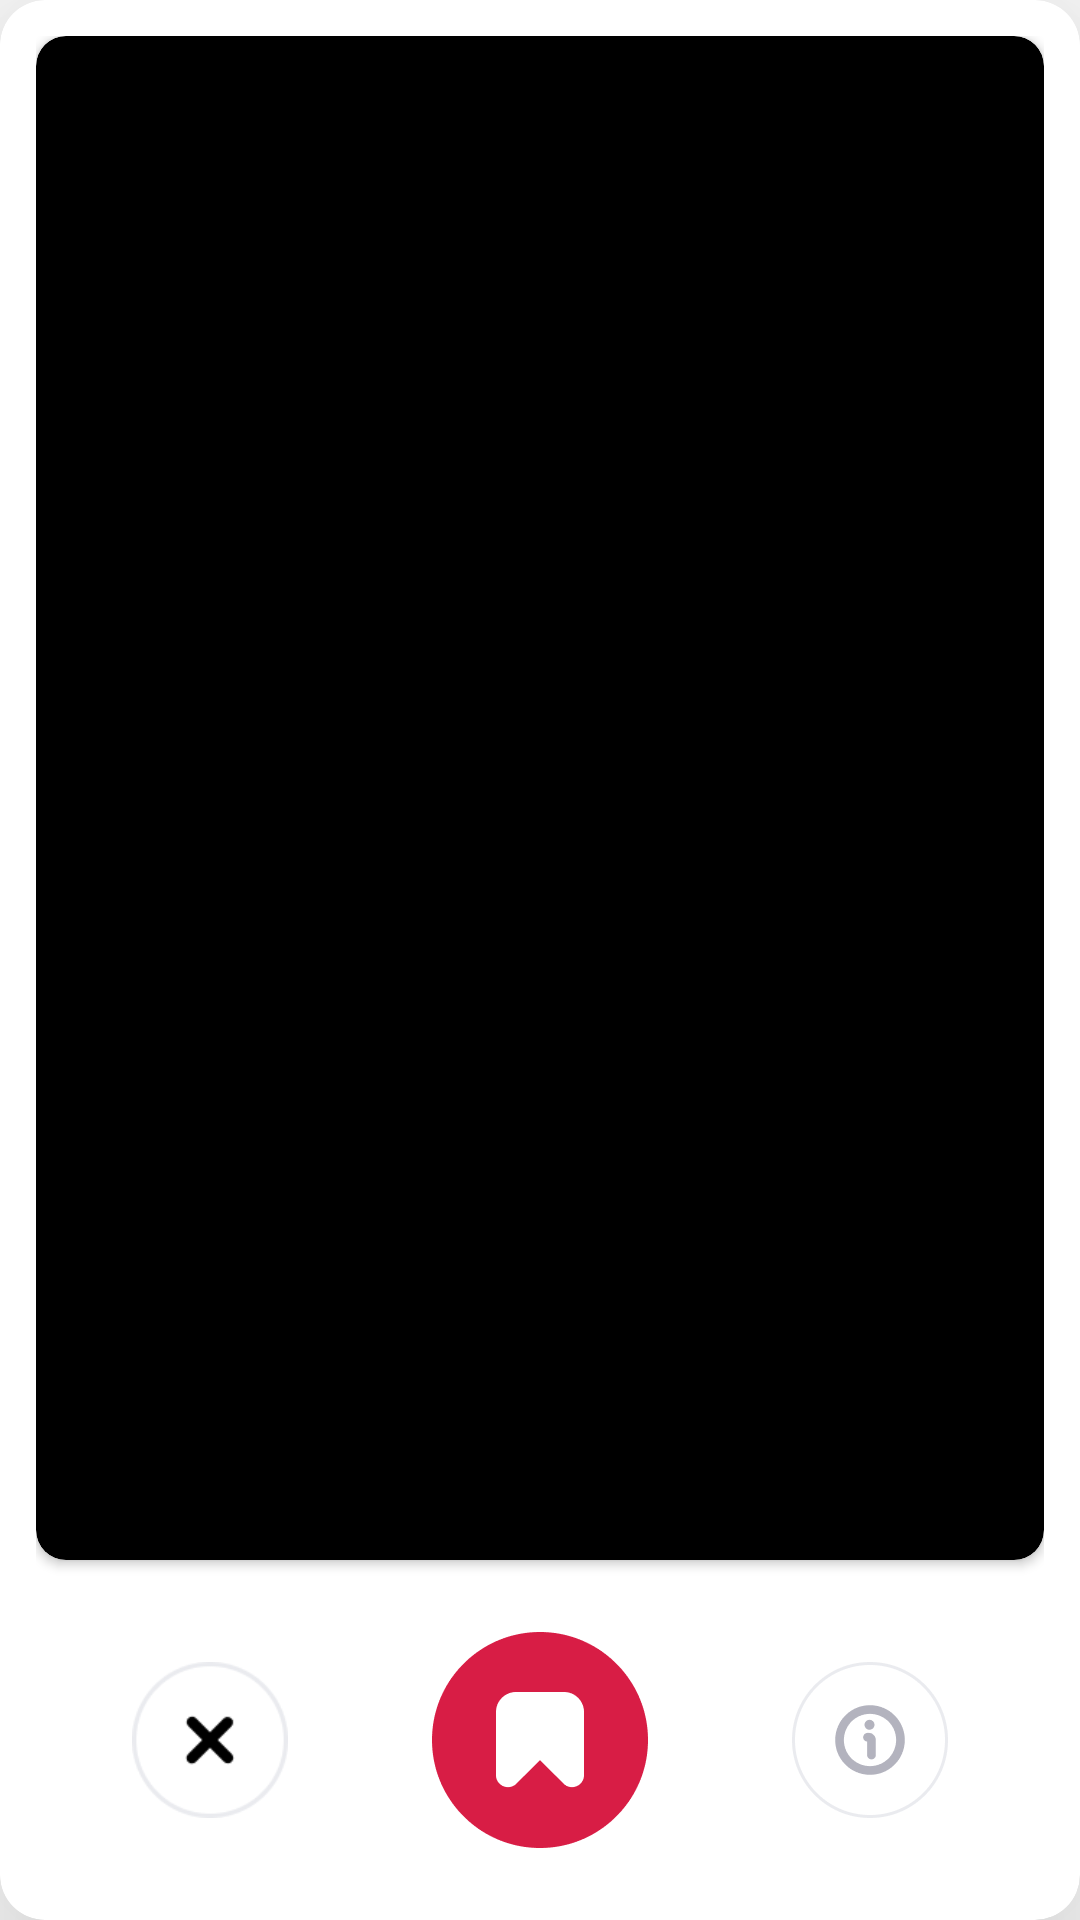

Screen size 1080×1920. Icon name, then its box in pixels as (x1, y1, x2, y2):
bookmark: (432, 1632, 648, 1848)
cancel: (185, 1716, 234, 1765)
information: (835, 1705, 905, 1775)
